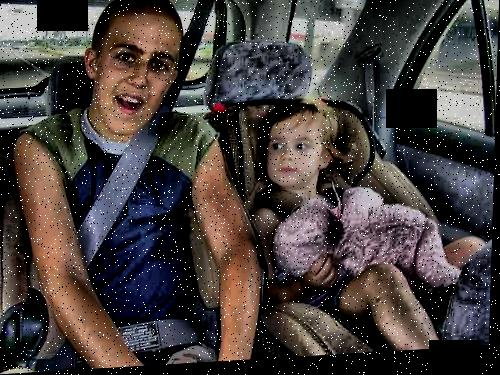seatbelt: (9, 0, 225, 338), (359, 42, 388, 137)
